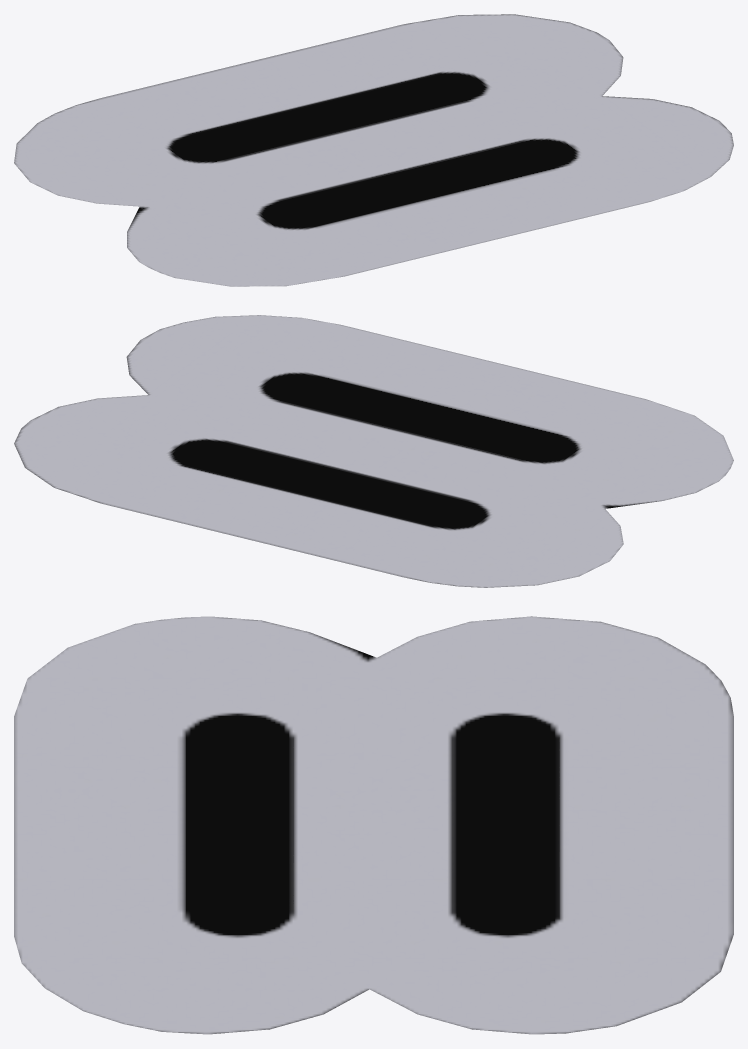
The model's file is Num_8.FBX.
The picture shows the model from 3 angles, top to bottom: view 1: azimuth 30°, elevation 25°; view 2: azimuth 150°, elevation 25°; view 3: azimuth 270°, elevation 25°; orthographic projection. The views are drawn at different scales.
Visible parts, largest first — view 1: Num_8; view 2: Num_8; view 3: Num_8.
Boxes of the visible parts, x1,y1,x2,y2 form: Num_8: (14, 14, 733, 286); Num_8: (14, 315, 733, 587); Num_8: (14, 616, 733, 1034).
Size of the model in its own units: 6.22 by 1.98e-07 by 4.53.
Materials: 1 (1 with a texture image).
